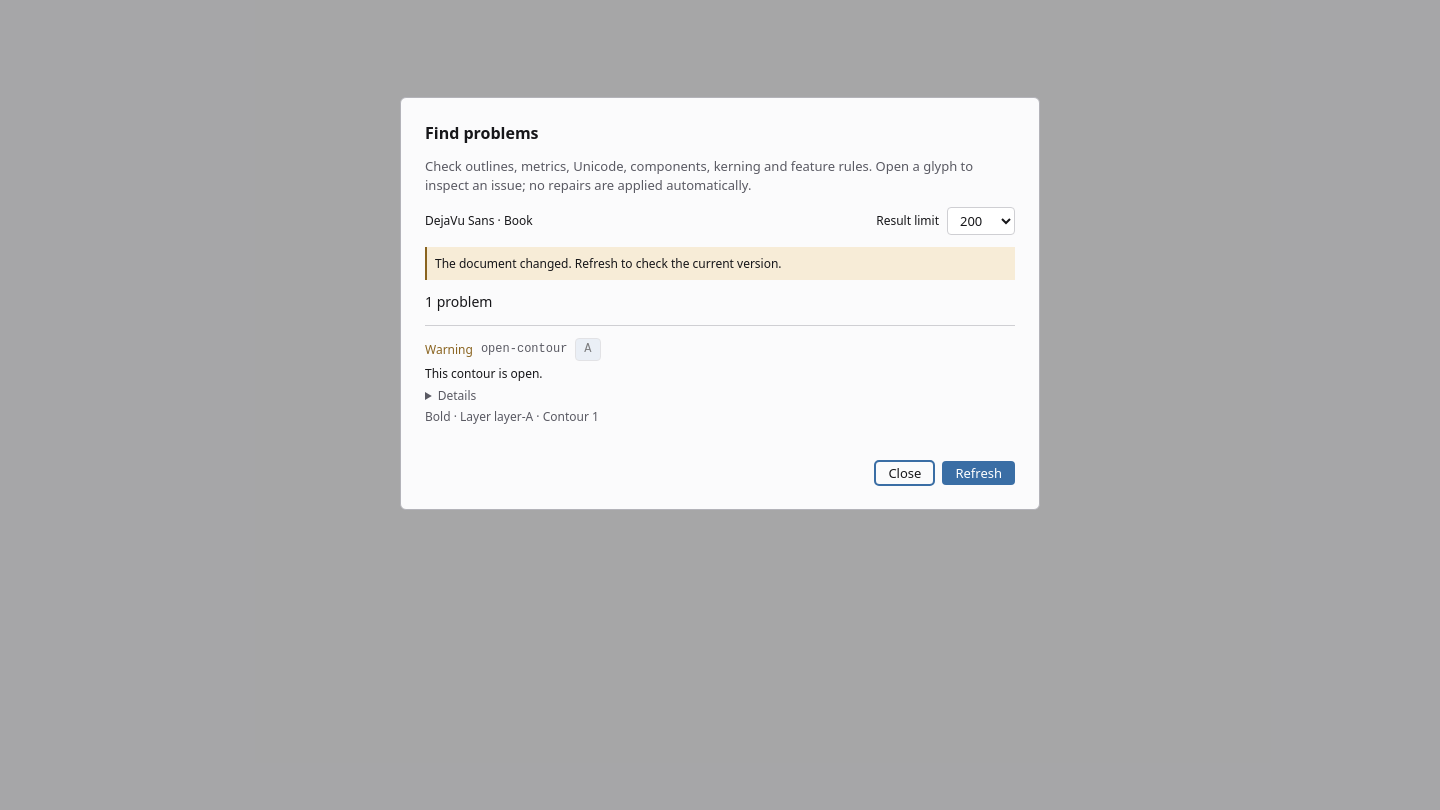
Scenario: FindProblemsDialog › marks edited results stale and refreshes the current generation
The width and height of the screenshot is (1440, 810).
Expected: the text "The document changed. Refresh to check the current version." is shown, x1=425 y1=247 x2=1015 y2=280
Expected: the button named "Open glyph A" is disabled, x1=575 y1=338 x2=600 y2=361
Click the button "Refresh".
click(979, 473)  # box x1=942 y1=461 x2=1015 y2=485
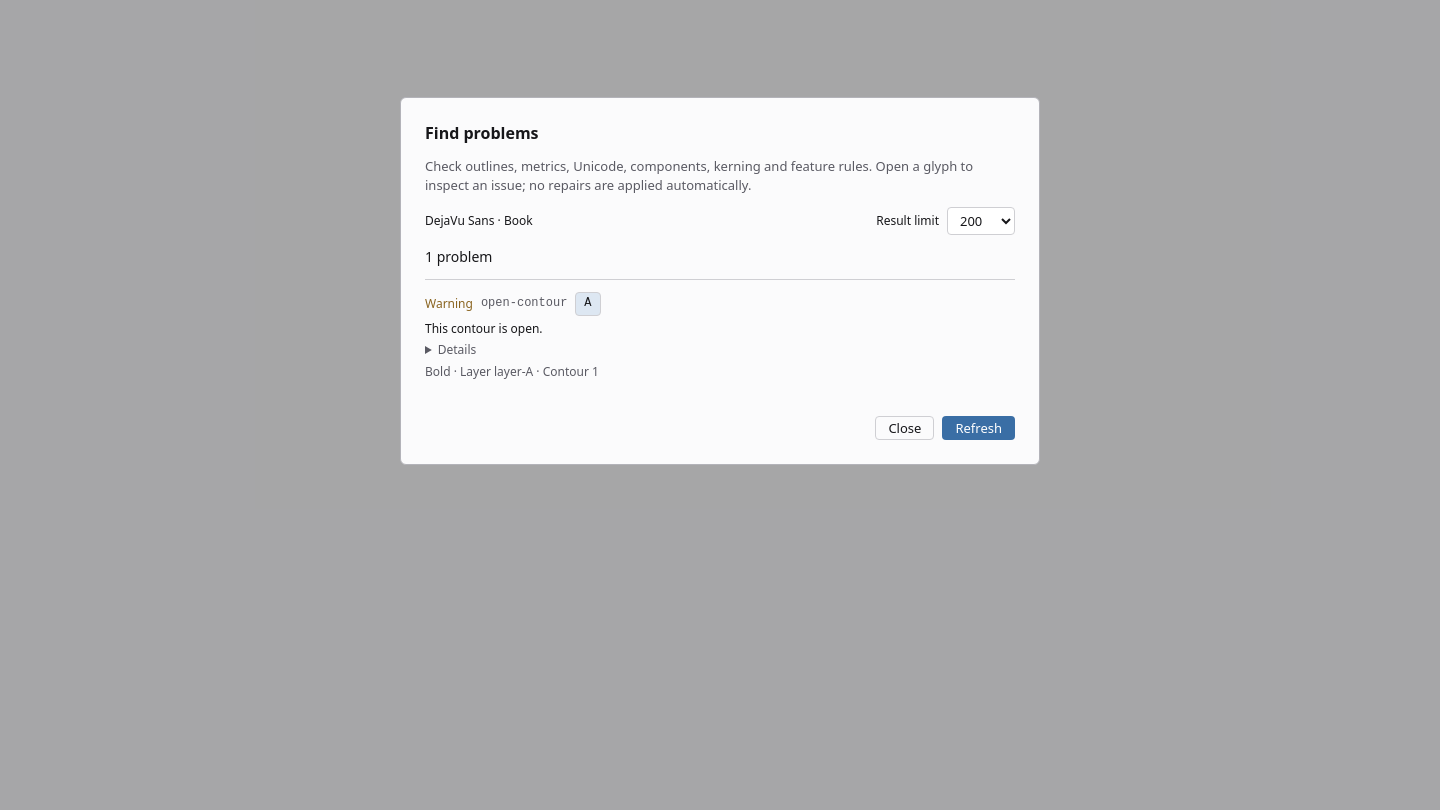
Expected: the button named "Open glyph A" is enabled, x1=575 y1=292 x2=600 y2=316
